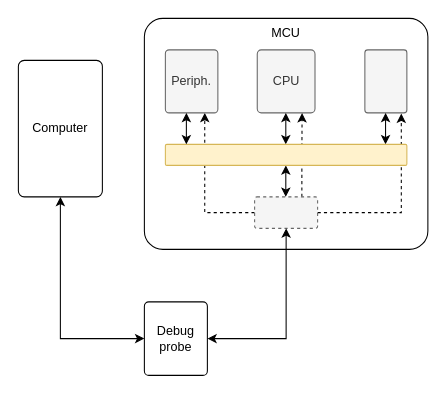
The diagram is 446 pixels wide and 394 high, and some of its shapes have lost their labels. Here are the shapes that lost their labels. From the top down, the centre of each, then its label:
(x=385, y=81): RAM
(x=285, y=154): Bus
(x=286, y=212): Debug
